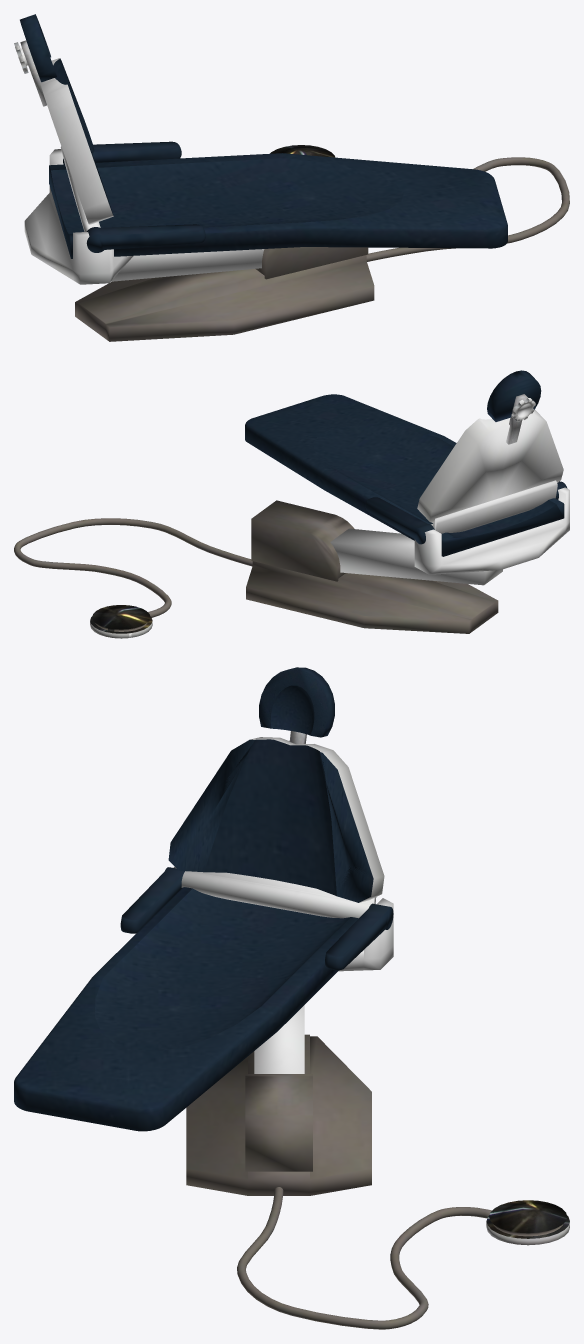
The model's file is DentalChair.obj.
The picture shows the model from 3 angles, top to bottom: view 1: azimuth 30°, elevation 25°; view 2: azimuth 150°, elevation 25°; view 3: azimuth 270°, elevation 25°; orthographic projection. The views are drawn at different scales.
Parts seen in each view (by area): view 1: DentalChair.obj; view 2: DentalChair.obj; view 3: DentalChair.obj.
Boxes of the visible parts, bbox=[...] form: DentalChair.obj: bbox=[14, 14, 569, 341]; DentalChair.obj: bbox=[14, 370, 569, 638]; DentalChair.obj: bbox=[14, 667, 569, 1329].
Size of the model in its own units: 14.4 by 7.59 by 10.7.
